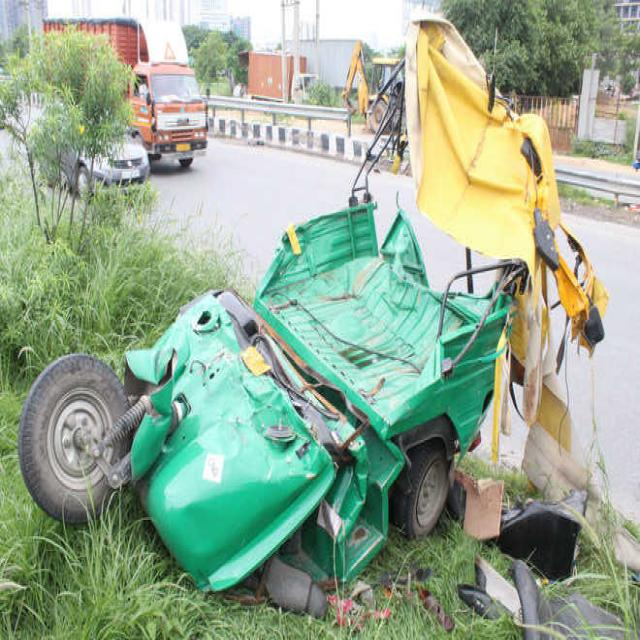accident: (19, 13, 609, 614)
car: (16, 32, 149, 241)
truck: (45, 15, 208, 168), (341, 40, 399, 131), (240, 52, 281, 100), (285, 53, 293, 96), (300, 55, 309, 74)
